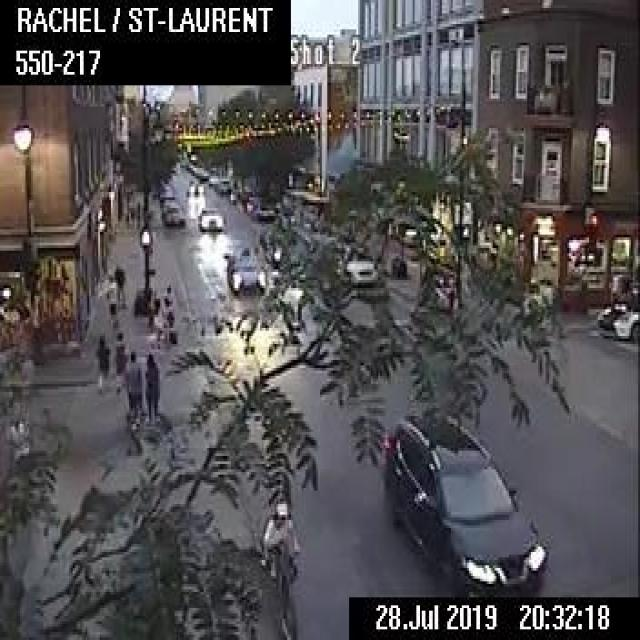cyclist: (254, 496, 302, 637)
pedestrian: (125, 347, 142, 429), (143, 351, 158, 424), (112, 330, 126, 396), (93, 331, 107, 389), (161, 280, 174, 341), (104, 268, 115, 328), (112, 261, 126, 306)
vehicle: (381, 412, 551, 594), (596, 293, 638, 339), (223, 248, 264, 293), (331, 251, 380, 285), (196, 206, 224, 230), (160, 201, 182, 224), (186, 179, 203, 194), (217, 177, 230, 194)
